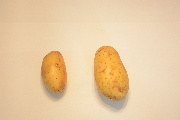potato: (92, 46, 129, 102), (40, 50, 69, 94)
